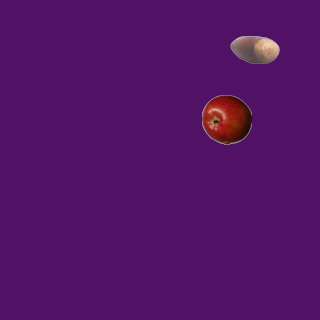Apple Braeburn: (201, 94, 251, 144)
Hazelnut: (229, 24, 279, 74)
